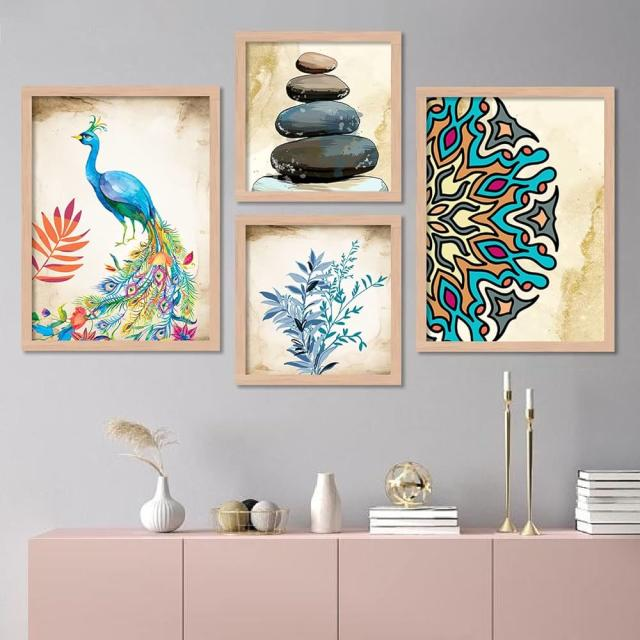painting: (22, 87, 221, 351), (417, 87, 615, 352), (235, 215, 402, 384), (236, 31, 403, 200)
